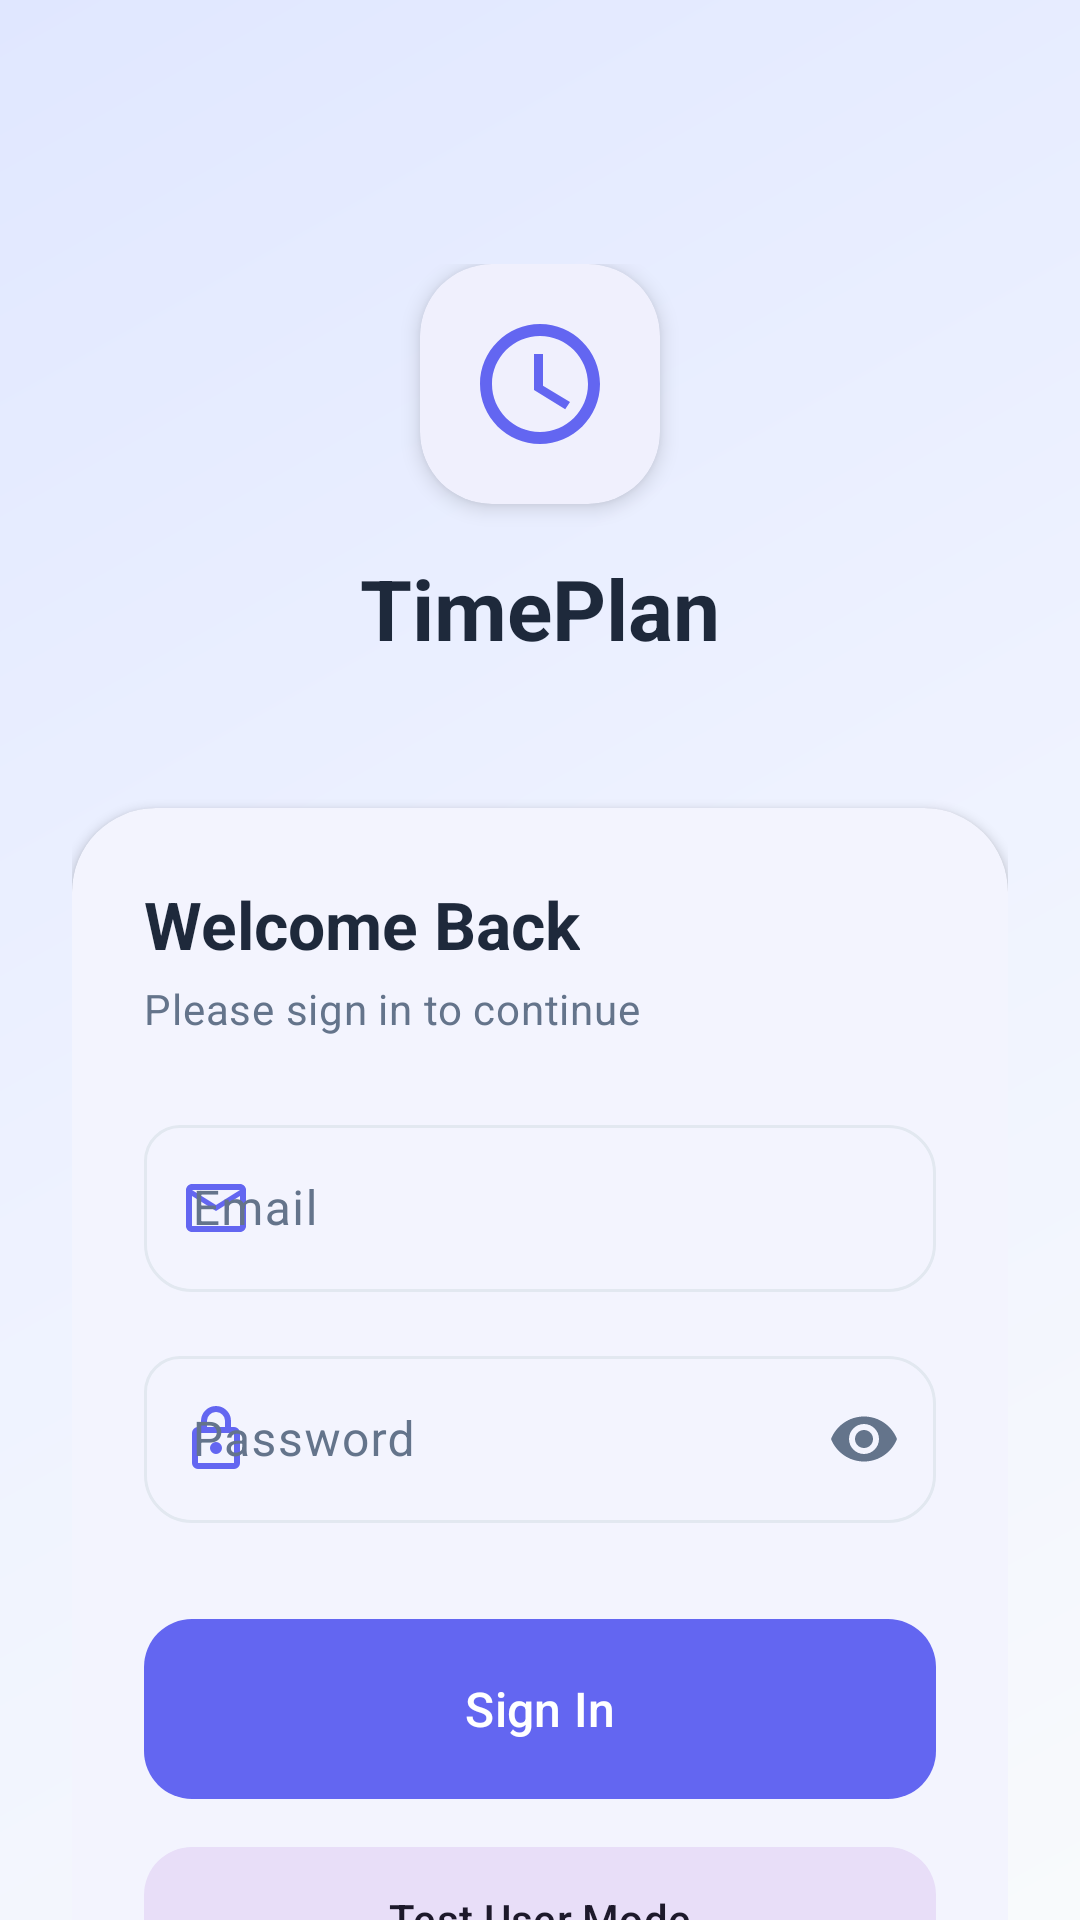

Point at icon controls on the screen. Image size 1080×1920, points as [x,y].
clock: [540,384]
